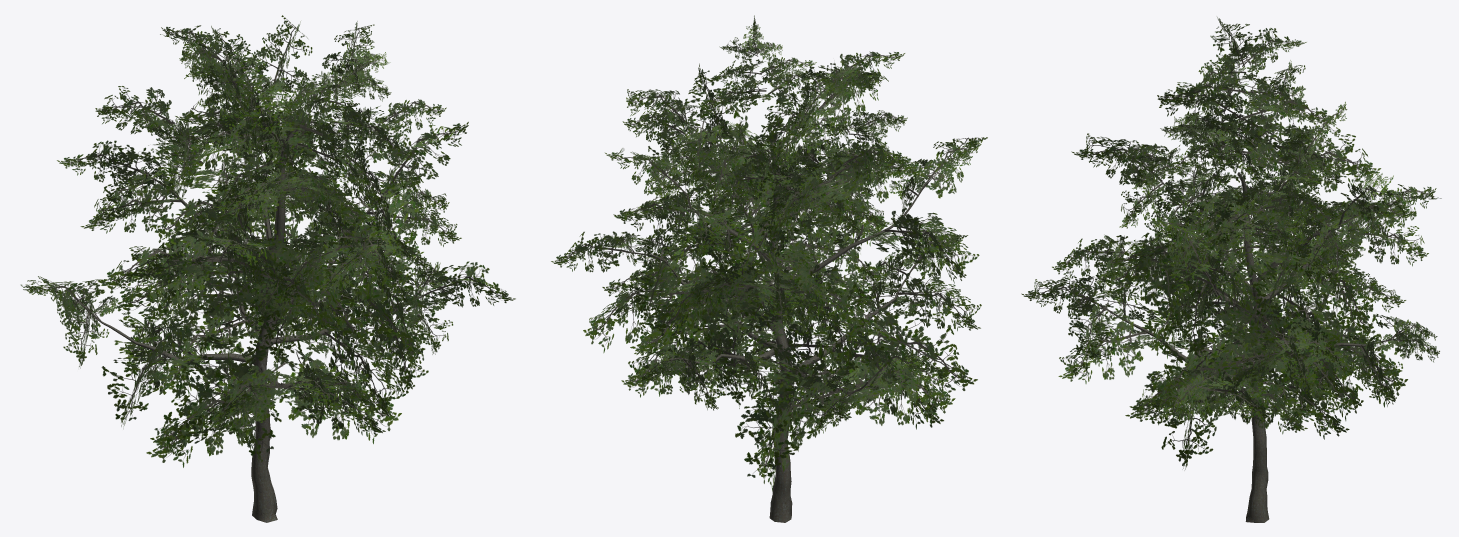
Rendered from oak_medium_2.glb.
The picture shows the model from 3 angles, left to right: view 1: azimuth 30°, elevation 25°; view 2: azimuth 150°, elevation 25°; view 3: azimuth 270°, elevation 25°; orthographic projection. The views are drawn at different scales.
Parts seen in each view (by area): view 1: Medium_oak_tree__002_LOD1_Cluster_Mat_0, Medium_oak_tree__002_LOD1_Bark_Mat_0; view 2: Medium_oak_tree__002_LOD1_Cluster_Mat_0, Medium_oak_tree__002_LOD1_Bark_Mat_0; view 3: Medium_oak_tree__002_LOD1_Cluster_Mat_0, Medium_oak_tree__002_LOD1_Bark_Mat_0.
Part boxes in pixels (x1,y1,x2,y2): Medium_oak_tree__002_LOD1_Cluster_Mat_0: [21, 15, 515, 467]; Medium_oak_tree__002_LOD1_Bark_Mat_0: [90, 95, 424, 522]; Medium_oak_tree__002_LOD1_Cluster_Mat_0: [551, 15, 987, 491]; Medium_oak_tree__002_LOD1_Bark_Mat_0: [629, 139, 920, 522]; Medium_oak_tree__002_LOD1_Cluster_Mat_0: [1021, 17, 1441, 470]; Medium_oak_tree__002_LOD1_Bark_Mat_0: [1102, 172, 1389, 522].
Bounding box in the file's own units: 9.02 × 10.29 × 8.67.
Materials: 2 (2 with a texture image).
